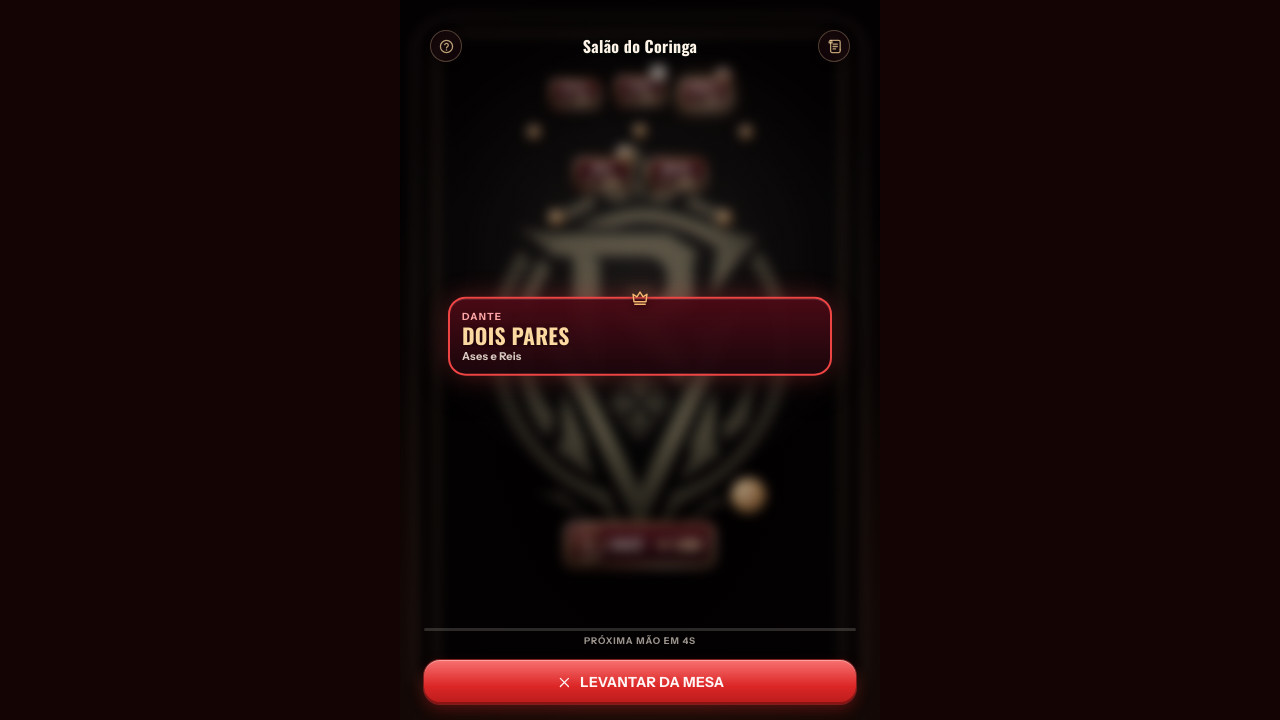
Test case: sem fichas, a saída fica em cena › com fichas, a confirmação mostra quanto volta
Click the button with test id "cash-leave" at (640, 682), box [424, 660, 856, 704]
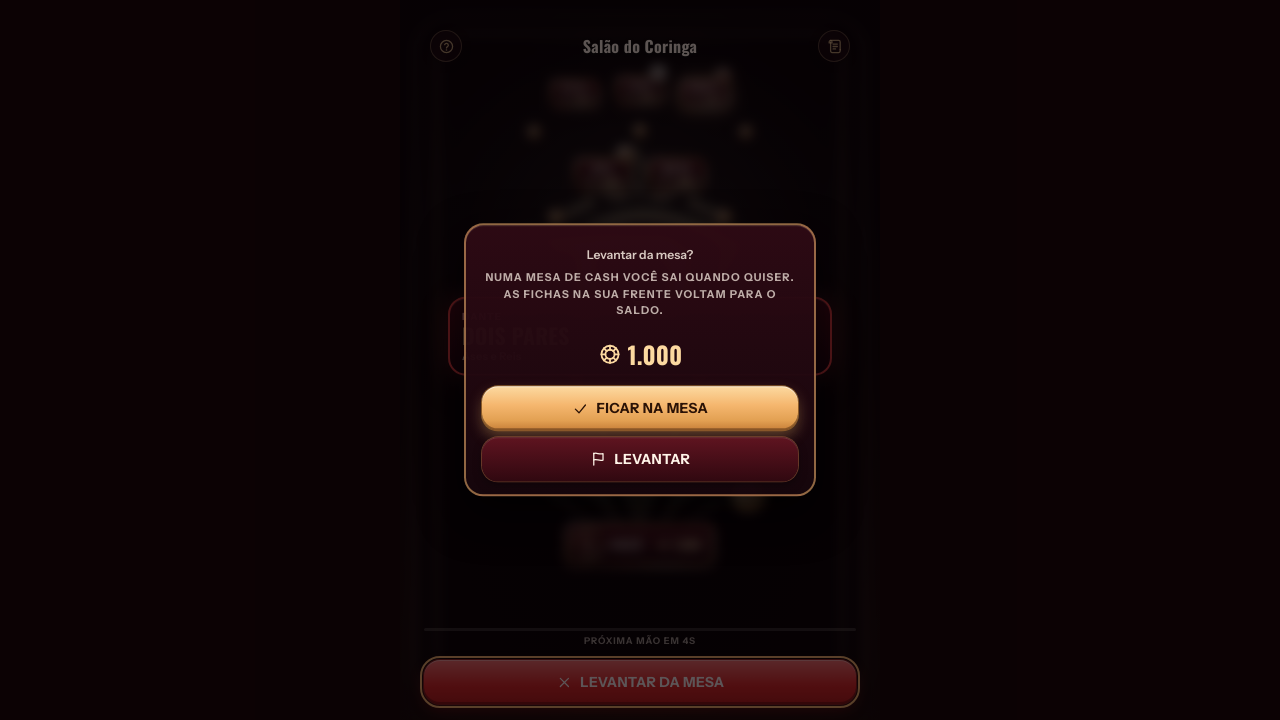
Now the element with test id "cash-leave-take" reads "1.000", box [627, 336, 682, 372]
